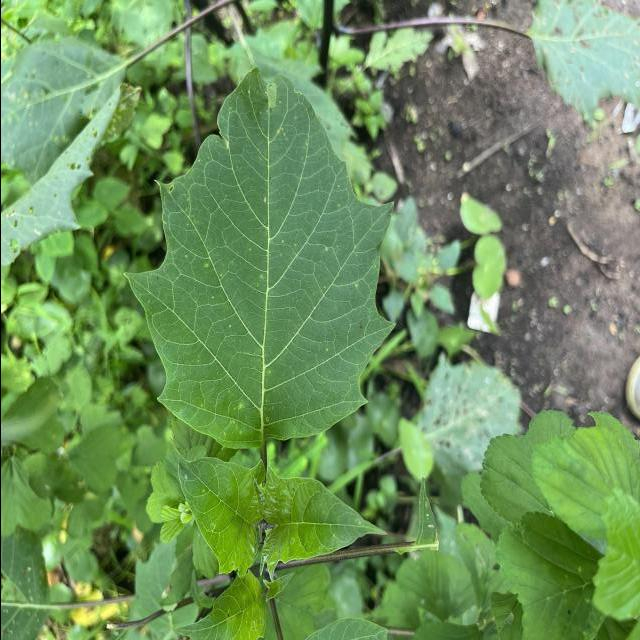Datura metal linn: (120, 59, 402, 454), (248, 460, 390, 588), (165, 432, 267, 584)
